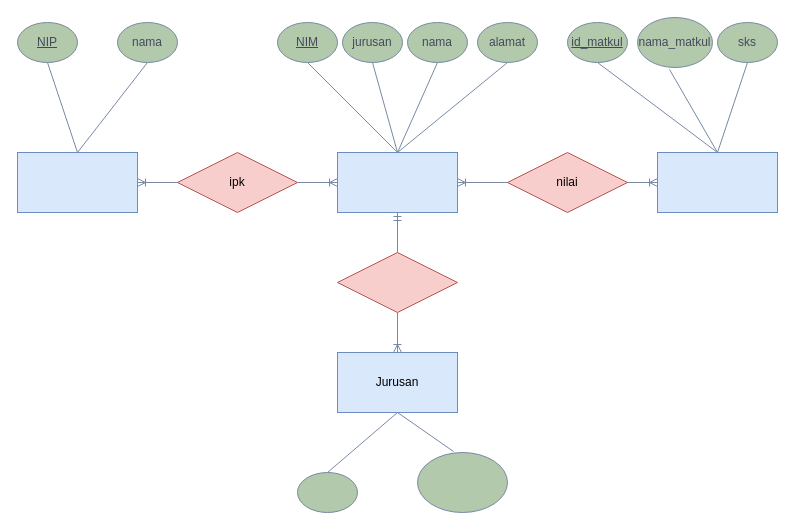
Image size: 795x530. Some labels were removed from this diagram. The shapes that lost their labels are listed below. From the top down, each one's centre as x and y in pixels, then its label:
At (x=77, y=182): "Dosen".
At (x=397, y=182): "Mahasiswa".
At (x=717, y=182): "Mata Kuliah".
At (x=397, y=282): "ada".
At (x=327, y=492): "id_jurusan".
At (x=462, y=482): "nama_jurusan".
